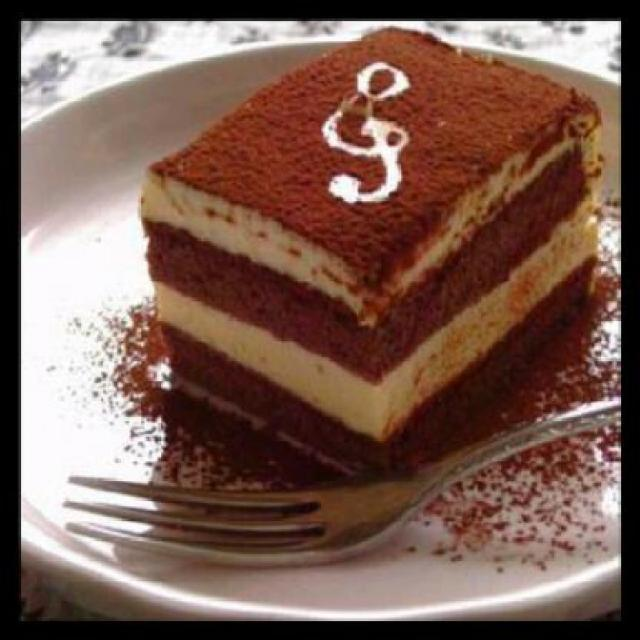Tiramisu: (120, 37, 602, 461)
